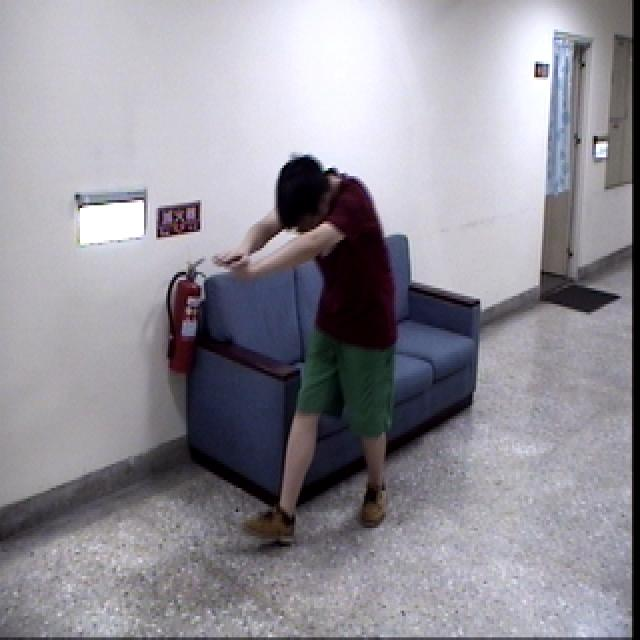bend: (207, 152, 409, 552)
